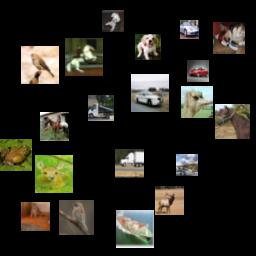airplane: (176, 154, 198, 176)
automobile: (131, 74, 169, 112), (187, 60, 209, 82), (180, 20, 199, 39)
bird: (21, 46, 59, 84), (59, 200, 94, 235), (181, 86, 213, 118)
cat: (21, 202, 50, 231)
deer: (35, 155, 73, 193), (155, 186, 184, 215)
dog: (213, 22, 245, 54), (135, 34, 161, 60), (102, 10, 124, 32)
frog: (0, 139, 32, 171)
ship: (116, 210, 154, 248)
truck: (115, 149, 144, 178), (88, 95, 114, 121)
